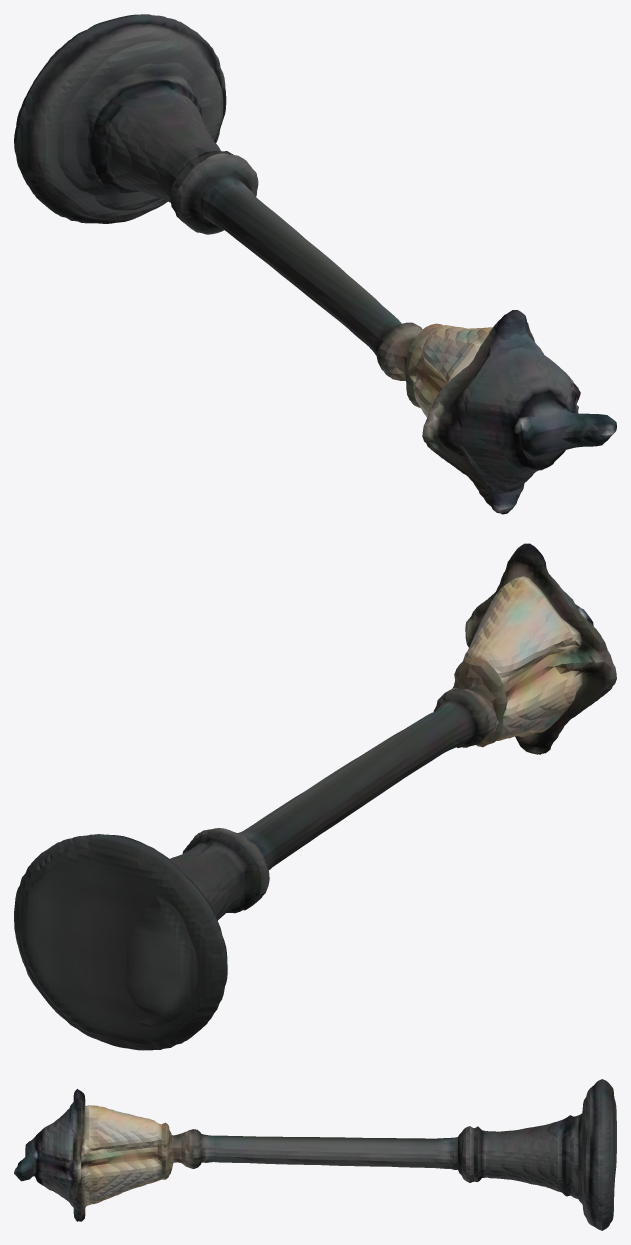
File: triposr_street_lamp.glb
The picture shows the model from 3 angles, top to bottom: view 1: azimuth 30°, elevation 25°; view 2: azimuth 150°, elevation 25°; view 3: azimuth 270°, elevation 25°; orthographic projection. The views are drawn at different scales.
Visible parts, largest first — view 1: geometry_0; view 2: geometry_0; view 3: geometry_0.
Boxes of the visible parts, x1,y1,x2,y2 form: geometry_0: (14,14,616,514); geometry_0: (14,543,616,1050); geometry_0: (14,1079,616,1230).
Size of the model in its own units: 0.2699 by 0.2549 by 1.03.
